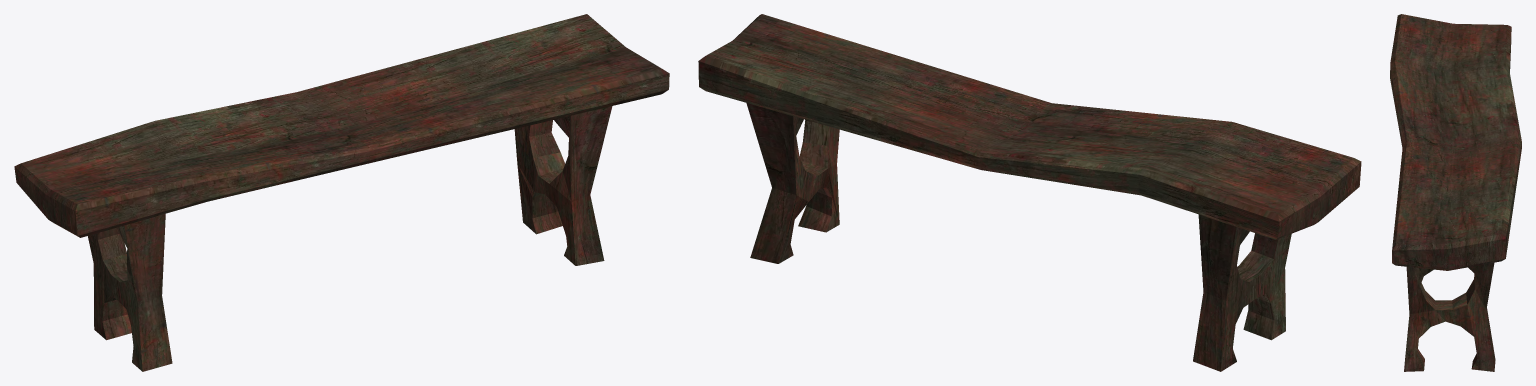
Rendered from TW2_9_ADDONS_03_2-transformed.glb.
3 views of the same model, side by side, from view 1: azimuth 30°, elevation 25°; view 2: azimuth 150°, elevation 25°; view 3: azimuth 270°, elevation 25° (orthographic). The views are drawn at different scales.
Visible parts, largest first — view 1: default; view 2: default; view 3: default.
Part boxes in pixels (<box>): default: <box>14,14,669,371</box>; default: <box>698,14,1361,371</box>; default: <box>1390,14,1521,371</box>.
Size of the model in its own units: 1.8 by 0.5587 by 0.4315.
Materials: 1 (1 with a texture image).
